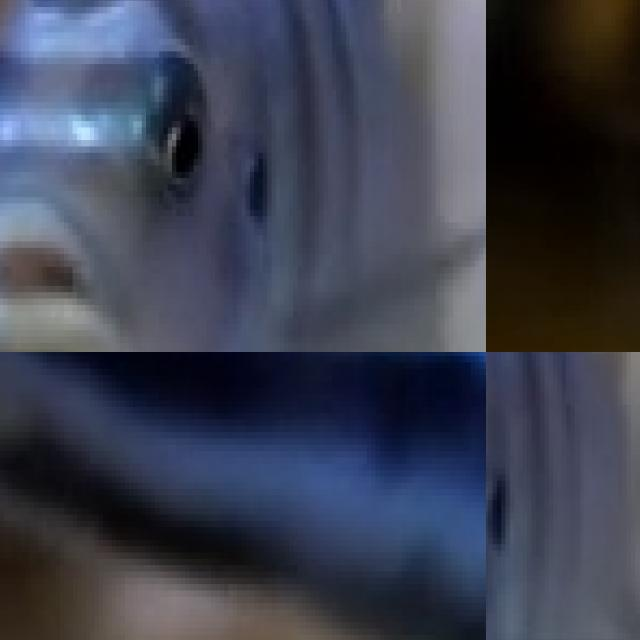fish: (0, 0, 486, 352), (0, 352, 486, 640), (486, 352, 640, 640)
